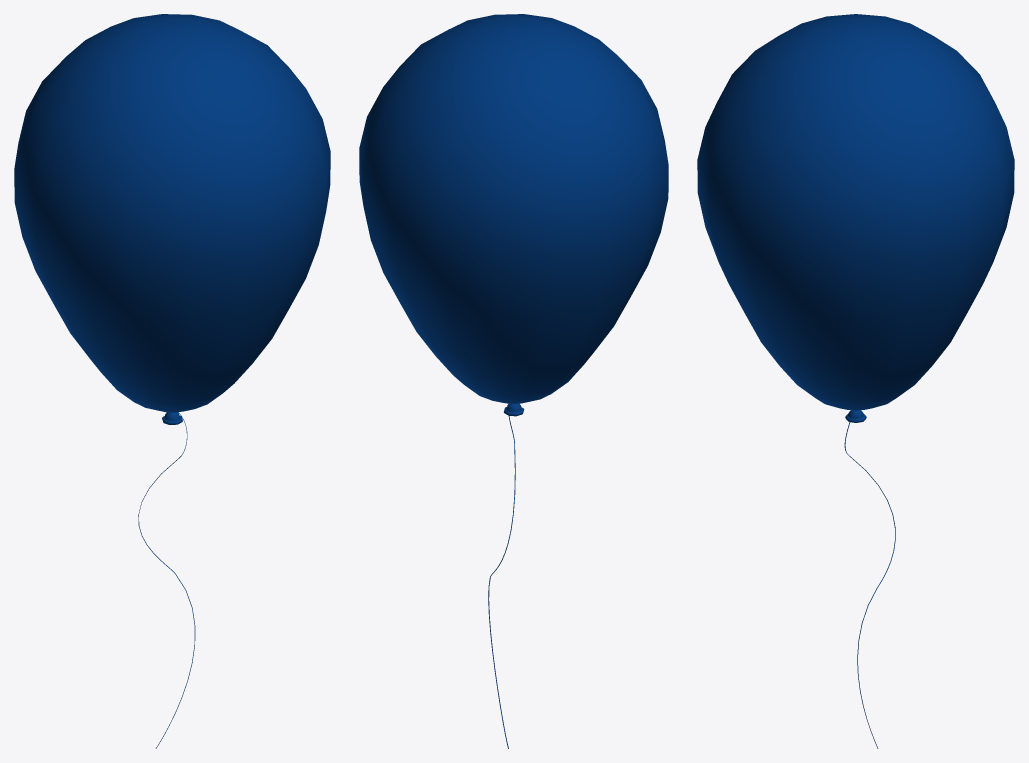
File: Balloon.obj
The picture shows the model from 3 angles, left to right: view 1: azimuth 30°, elevation 25°; view 2: azimuth 150°, elevation 25°; view 3: azimuth 270°, elevation 25°; orthographic projection. The views are drawn at different scales.
Parts seen in each view (by area): view 1: Balloon.007; view 2: Balloon.007; view 3: Balloon.007.
Boxes of the visible parts, left/top/right/bottom form: Balloon.007: left=14, top=14, right=330, bottom=748; Balloon.007: left=359, top=14, right=668, bottom=748; Balloon.007: left=697, top=14, right=1014, bottom=748.
Bounding box in the file's own units: 0.2648 × 0.664 × 0.2648.
